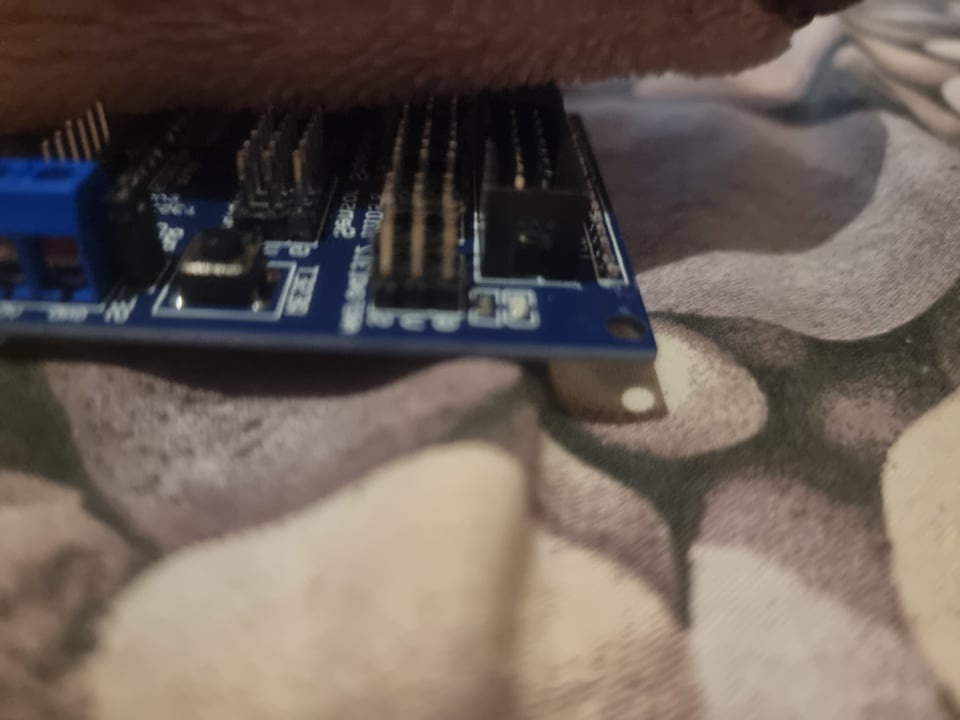5V EXPANSION: (3, 72, 657, 362)
